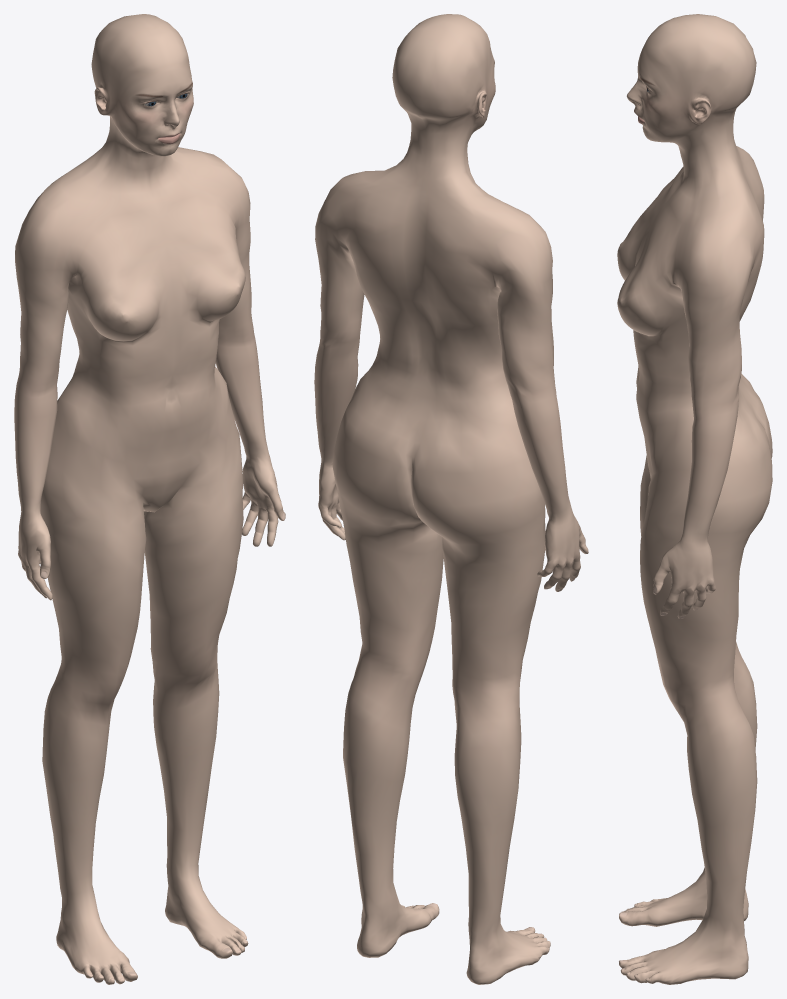
The model's file is woman_central_trial.glb.
3 views of the same model, side by side, from view 1: azimuth 30°, elevation 25°; view 2: azimuth 150°, elevation 25°; view 3: azimuth 270°, elevation 25° (orthographic).
Parts seen in each view (by area): view 1: basemesh_female_body; view 2: basemesh_female_body; view 3: basemesh_female_body.
Boxes of the visible parts, bbox=[...] form: basemesh_female_body: bbox=[14, 14, 285, 984]; basemesh_female_body: bbox=[314, 14, 588, 984]; basemesh_female_body: bbox=[617, 14, 772, 984].
Bounding box in the file's own units: 0.4716 × 1.67 × 0.2532.
Materials: 3 (2 with a texture image).
